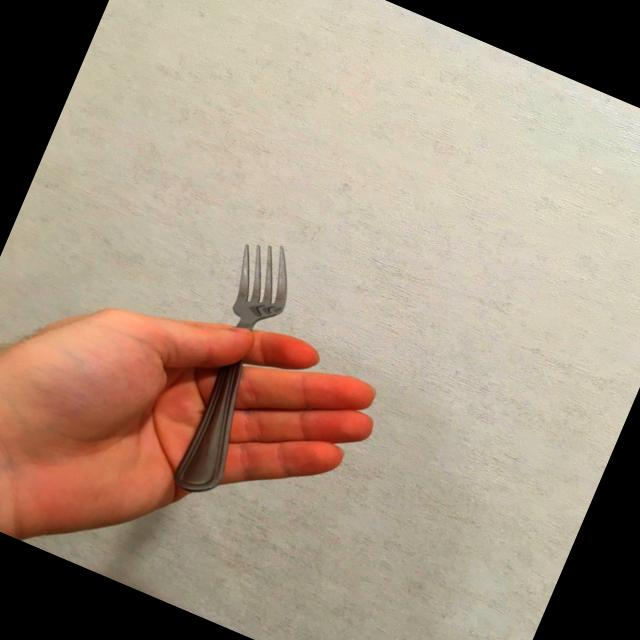fork: (144, 228, 314, 500)
